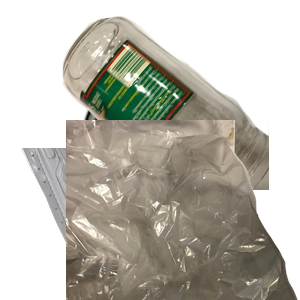glass: (60, 14, 300, 194)
metal: (80, 68, 284, 248)
plastic: (19, 148, 259, 300)
trash: (66, 120, 300, 300)
